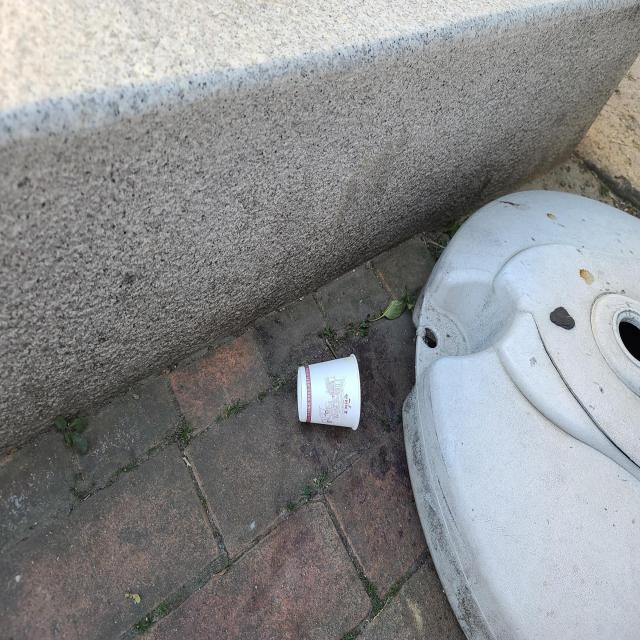paperpack: (297, 354, 361, 430)
